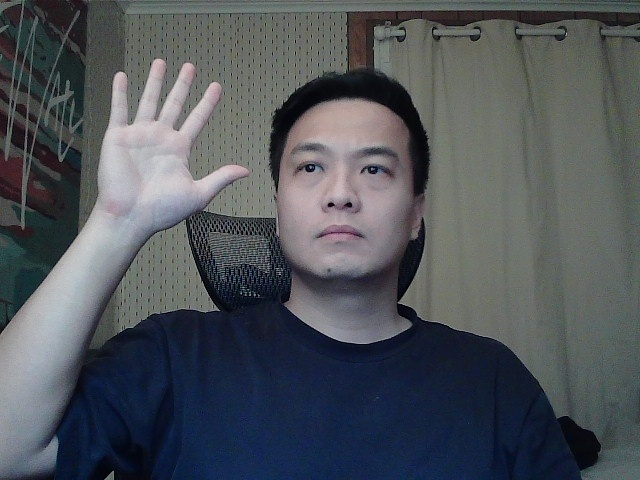Hello: (92, 38, 262, 236)
